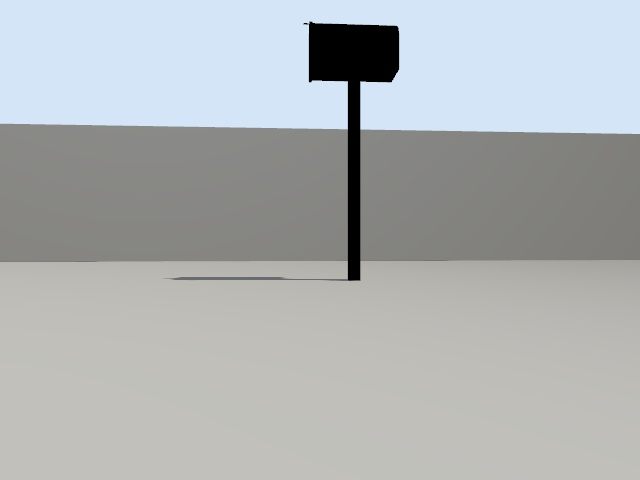boite_lettres: (308, 22, 398, 280)
